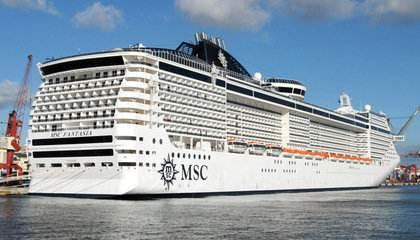youlun: (22, 33, 403, 194)
